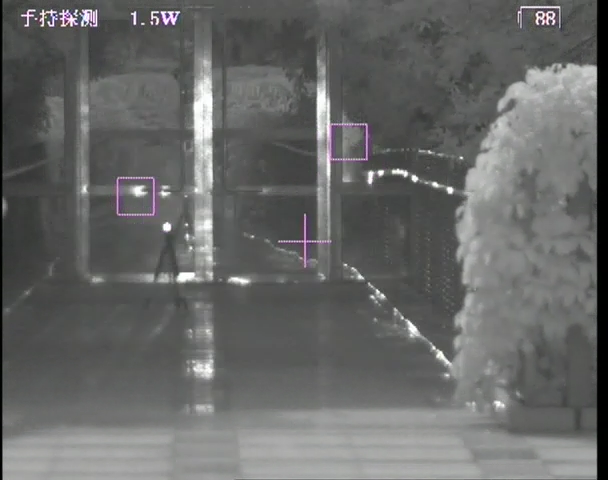my: (161, 222, 173, 233)
